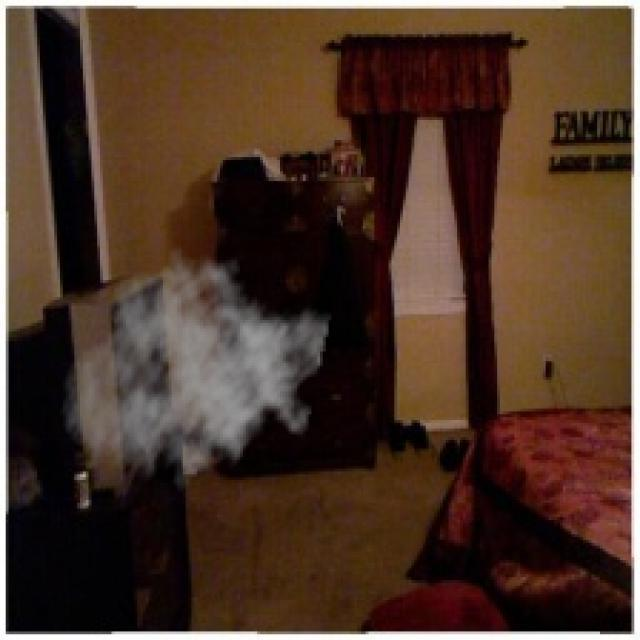Smoke: (60, 246, 332, 503)
